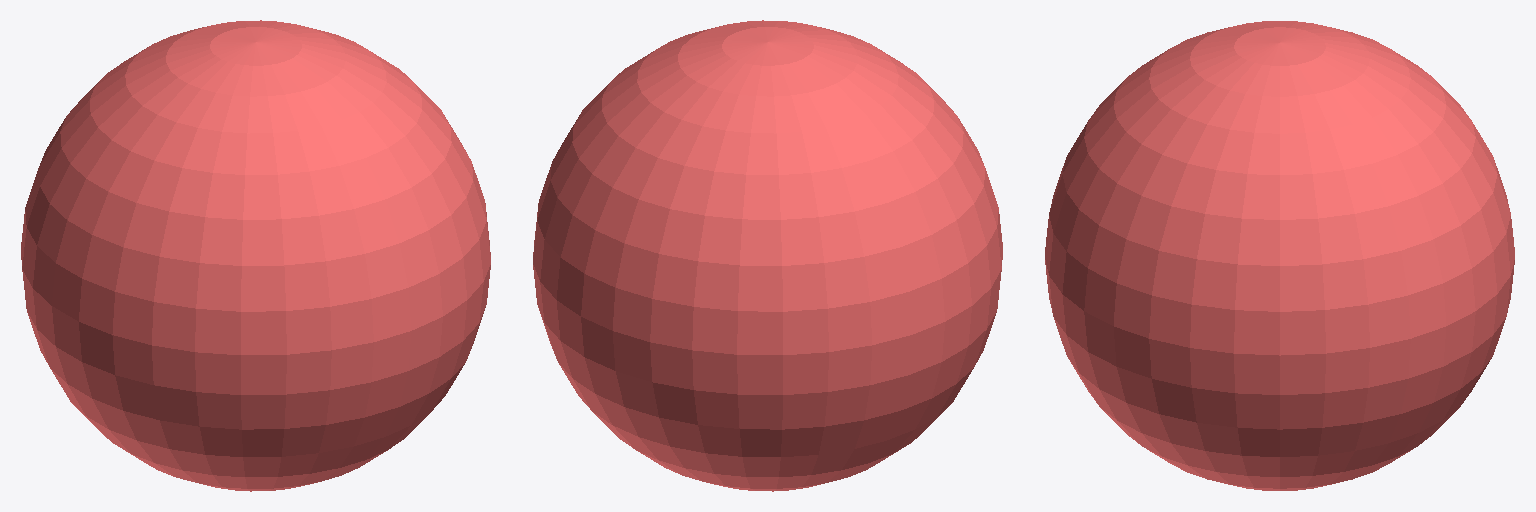
The robot description file, URDF, robot "sphere":
<?xml version="1.0"?>
<robot name="sphere">
  <link name="sphere">
    <inertial>
        <origin xyz="0.09 0.035 0" rpy="0 0 0" />
        <mass value="0.113" />
        <inertia ixx="1.8e-05" ixy="0" ixz="0" iyy="1.8e-05" iyz="0" izz="1.8e-05" />
    </inertial>

    <visual name="sphere_visual">
        <origin xyz="0.09 0.035 0" rpy="0 0 0" />
        <geometry>
            <sphere radius="0.032"/>
        </geometry>
        <material name="red">
            <color rgba="1 0.5 0.5 1"/>
        </material>
    </visual>

    <collision name="sphere_collision">
        <origin xyz="0.09 0.035 0" rpy="0 0 0" />
        <geometry>
            <sphere radius="0.02"/>
        </geometry>
        <surface>
            <friction>
                <ode>
                    <mu>20.0</mu>          <!-- High friction for better grip -->
                    <mu2>20.0</mu2>
                </ode>
            </friction>
            <contact>
                <ode>
                    <kp>1000.0</kp>
                    <kd>1.0</kd>
                    <max_vel>0.05</max_vel> <!-- Slowed down for stability -->
                    <min_depth>0.001</min_depth>
                </ode>
            </contact>
        </surface>
    </collision>

    <dynamics>
        <damping>0.05</damping>           <!-- Increased damping for more stability -->
        <friction>1.0</friction>
    </dynamics>
  </link>

  <gazebo reference="cylinder">
    <material>Gazebo/Blue</material>
    <mu1>20.0</mu1>
    <mu2>20.0</mu2>
    <kp>1000.0</kp>
    <kd>1.0</kd>
    <restitution_coefficient>0.0</restitution_coefficient>
    <maxContacts>10</maxContacts>
    <stop_cfm>0.0</stop_cfm>
    <stop_erp>0.2</stop_erp>
    <minDepth>0.001</minDepth>
    <max_vel>0.05</max_vel>
  </gazebo>
</robot>

--- Render facts (derived) ---
The picture shows the robot from 3 angles, left to right: view 1: azimuth 30°, elevation 25°; view 2: azimuth 150°, elevation 25°; view 3: azimuth 270°, elevation 25°; orthographic projection.
Robot: sphere — 1 links, 0 joints (none); root link sphere; default pose: every joint at zero.
Links seen in each view (by area): view 1: sphere; view 2: sphere; view 3: sphere.
Link boxes in pixels (left/top/right/bottom): sphere: left=21, top=20, right=490, bottom=491; sphere: left=533, top=20, right=1002, bottom=491; sphere: left=1045, top=21, right=1514, bottom=490.
Size in the robot's own frame: 0.064 by 0.064 by 0.064 metres.
Geometry: primitives only (box / cylinder / sphere), no mesh files.